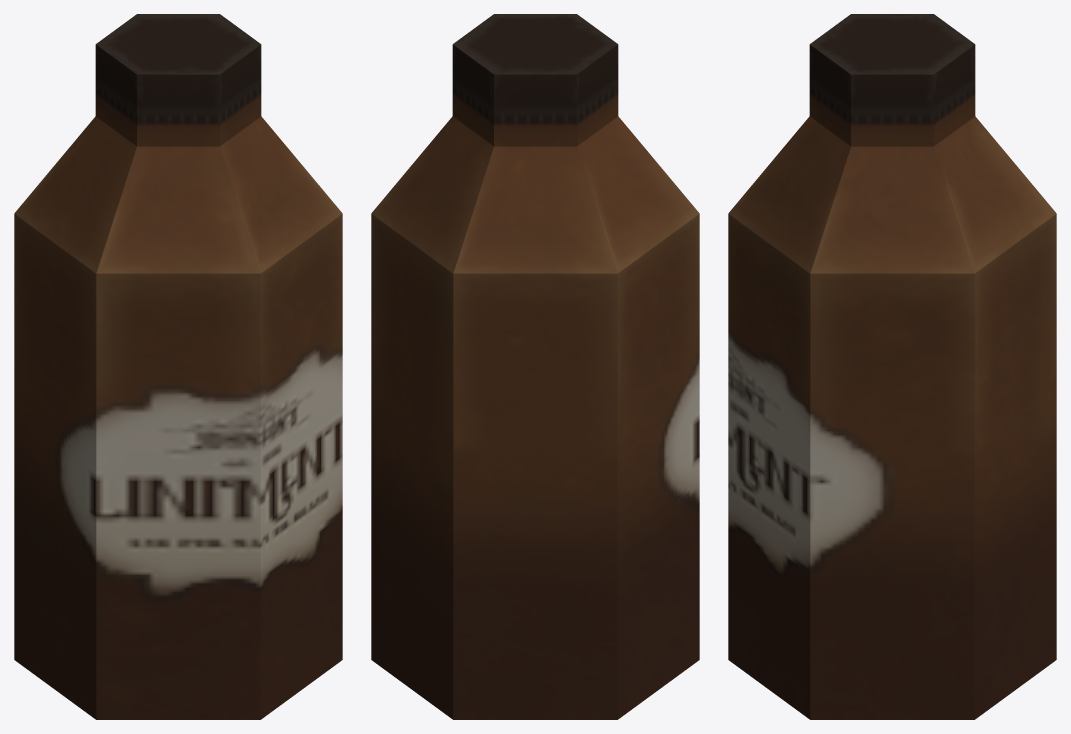
Rendered from Medicine_1.fbx.
3 views of the same model, side by side, from view 1: azimuth 30°, elevation 25°; view 2: azimuth 150°, elevation 25°; view 3: azimuth 270°, elevation 25° (orthographic).
Visible parts, largest first — view 1: Medicine_1; view 2: Medicine_1; view 3: Medicine_1.
Boxes of the visible parts, x1,y1,x2,y2 form: Medicine_1: (14,14,342,719); Medicine_1: (371,14,699,719); Medicine_1: (728,14,1056,719).
Size of the model in its own units: 6.66 by 15.89 by 7.69.
